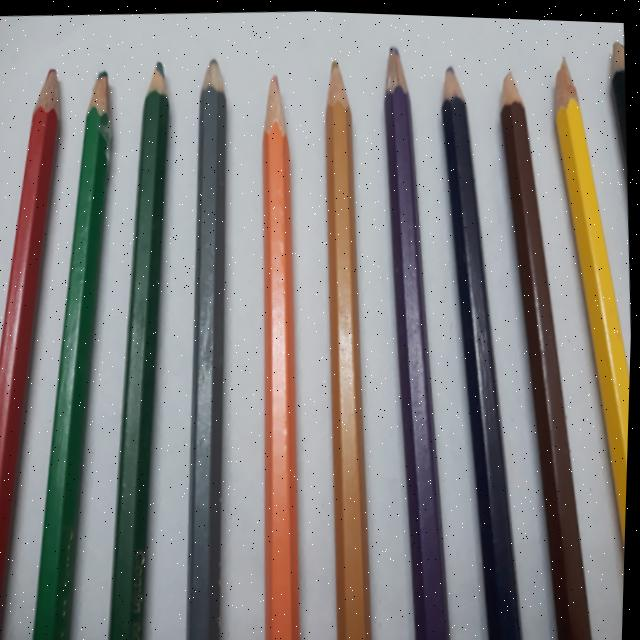pencil: (486, 37, 611, 640), (15, 49, 129, 640), (153, 48, 265, 640), (431, 48, 538, 640), (364, 39, 469, 640), (101, 46, 205, 640), (304, 51, 397, 640), (236, 58, 326, 640), (539, 35, 632, 563), (0, 59, 73, 640)
